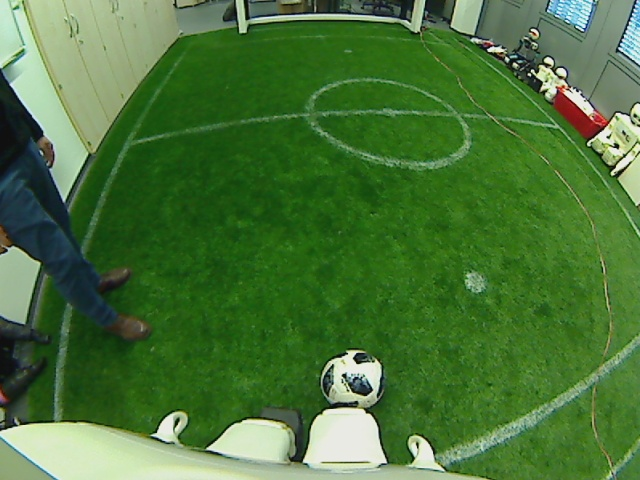ball: (317, 344, 384, 409)
